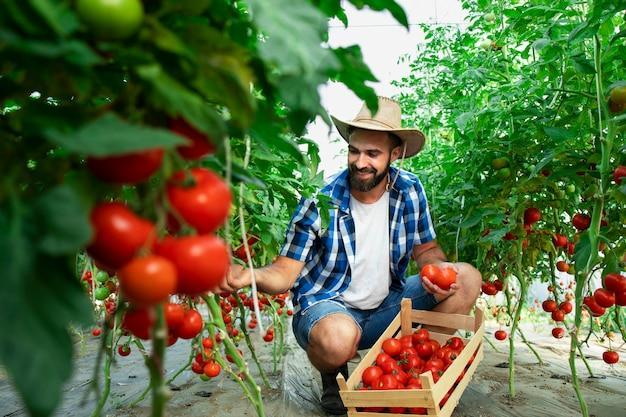healthy-tomato: (88, 202, 158, 277), (166, 168, 236, 239), (155, 235, 233, 297), (114, 256, 182, 310), (161, 298, 205, 346), (382, 339, 414, 357), (382, 377, 404, 391), (542, 300, 561, 314), (366, 367, 381, 384), (496, 329, 512, 344), (555, 330, 568, 340)
